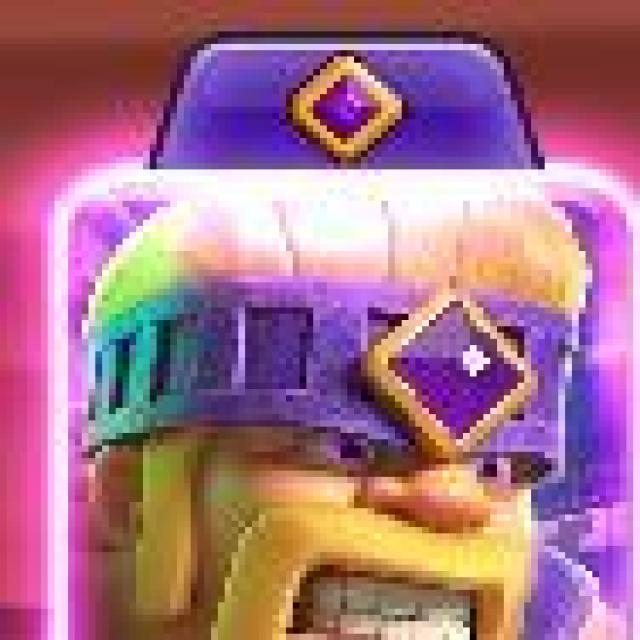Evolved_Barbarians: (47, 167, 640, 640)
